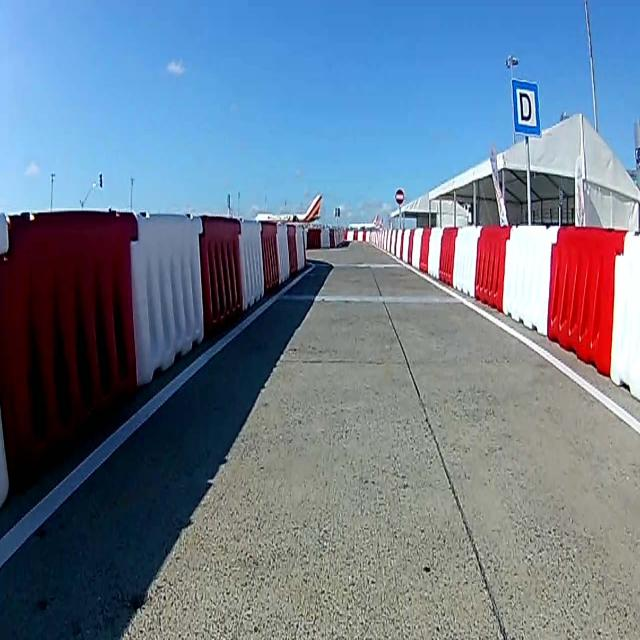durak: (511, 78, 541, 138)
girisyok: (394, 188, 404, 205)
